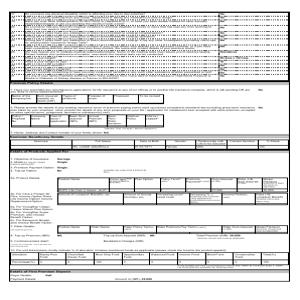table: (9, 13, 288, 79), (11, 134, 288, 148), (10, 252, 289, 265), (57, 176, 288, 191), (58, 192, 288, 205), (11, 114, 164, 128), (11, 94, 164, 103)
text: (10, 81, 267, 94), (9, 154, 166, 175), (10, 105, 266, 113), (11, 249, 229, 252), (11, 205, 55, 217), (11, 218, 55, 230), (10, 193, 54, 204), (10, 130, 113, 134), (10, 243, 52, 248), (10, 270, 70, 273), (10, 233, 53, 237), (11, 176, 45, 181), (11, 238, 52, 242), (9, 274, 57, 277), (9, 278, 38, 281)
